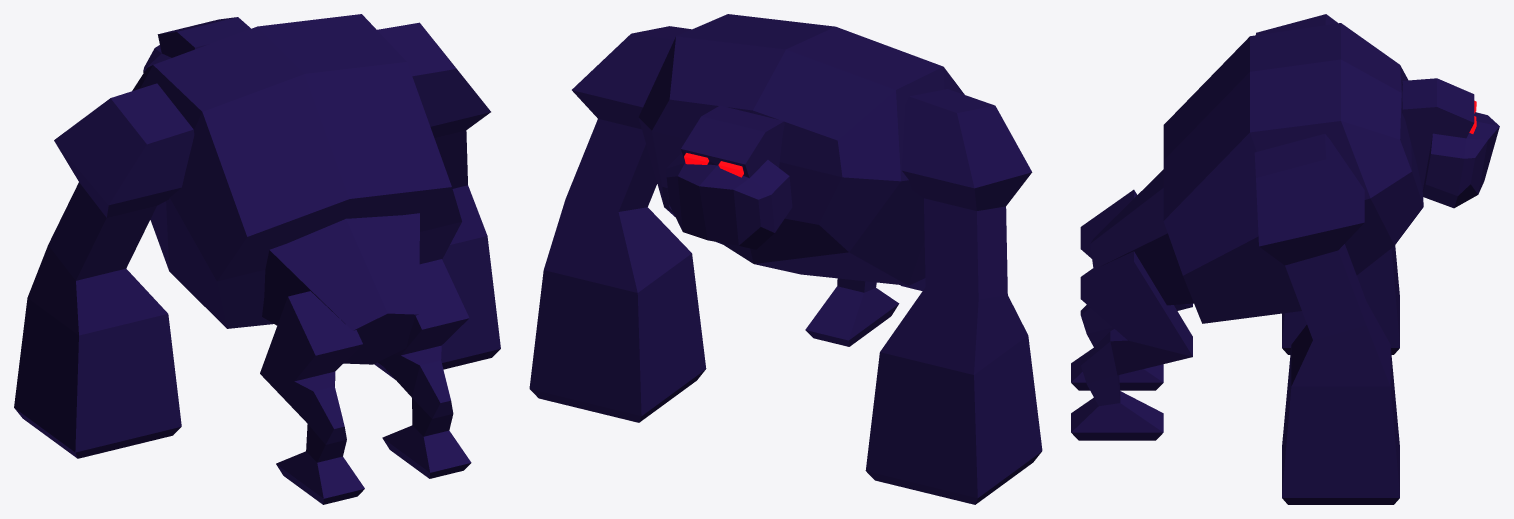
The model's file is SlowEnemy.fbx.
The picture shows the model from 3 angles, left to right: view 1: azimuth 30°, elevation 25°; view 2: azimuth 150°, elevation 25°; view 3: azimuth 270°, elevation 25°; orthographic projection. The views are drawn at different scales.
Visible parts, largest first — view 1: Cube.025, Cube.022, Cube.019, Cube.023, Cube.024, Cube.020; view 2: Cube.025, Cube.022, Cube.019, Cube.023, Cube.020, Cube.024; view 3: Cube.025, Cube.022, Cube.019, Cube.020, Cube.023, Cube.024.
Part boxes in pixels (left/top/right/bottom): Cube.025: left=132, top=14, right=471, bottom=504; Cube.022: left=14, top=236, right=500, bottom=458; Cube.019: left=54, top=22, right=490, bottom=217; Cube.023: left=27, top=185, right=487, bottom=335; Cube.024: left=48, top=130, right=467, bottom=280; Cube.020: left=143, top=17, right=250, bottom=72; Cube.025: left=638, top=14, right=964, bottom=346; Cube.022: left=529, top=253, right=1042, bottom=504; Cube.019: left=572, top=26, right=1032, bottom=210; Cube.023: left=544, top=199, right=1027, bottom=374; Cube.020: left=665, top=105, right=792, bottom=249; Cube.024: left=565, top=119, right=1007, bottom=299; Cube.025: left=1071, top=23, right=1423, bottom=440; Cube.022: left=1282, top=245, right=1399, bottom=504; Cube.019: left=1254, top=14, right=1364, bottom=265; Cube.020: left=1402, top=78, right=1499, bottom=208; Cube.023: left=1291, top=301, right=1390, bottom=386; Cube.024: left=1285, top=244, right=1366, bottom=339.
Size of the model in its own units: 800 by 650 by 725.
